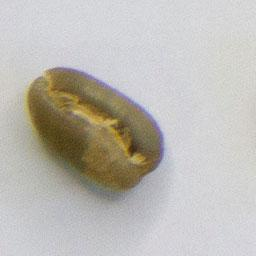longberry: (25, 62, 168, 196)
